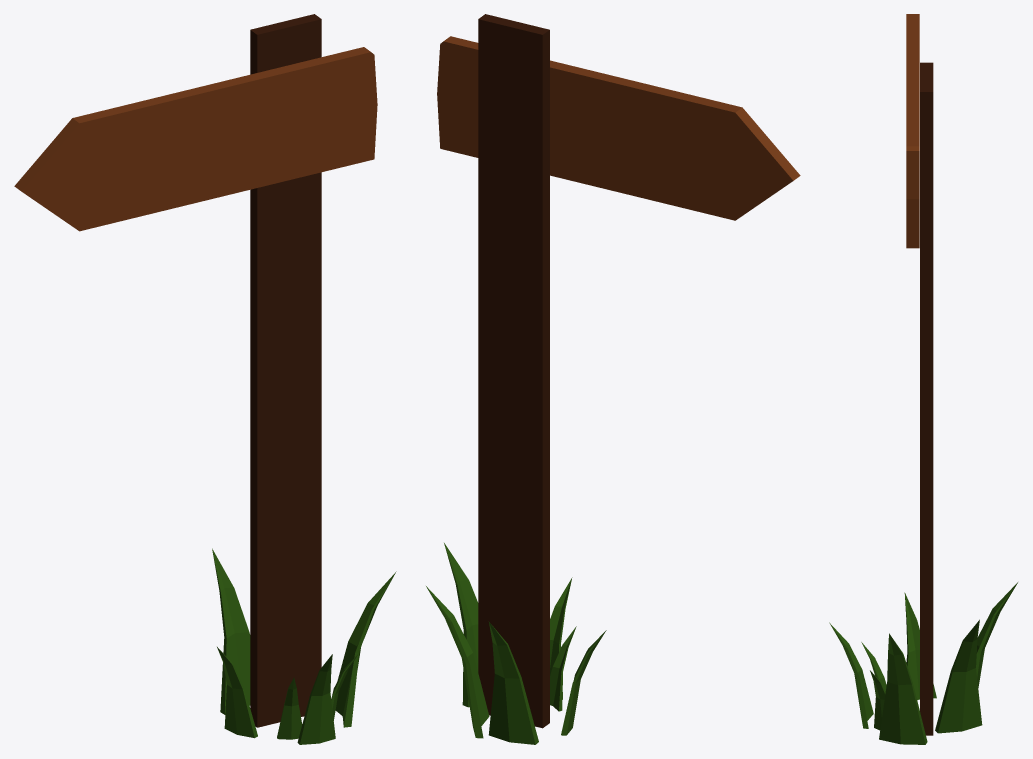
The model's file is Sign1.obj.
The picture shows the model from 3 angles, left to right: view 1: azimuth 30°, elevation 25°; view 2: azimuth 150°, elevation 25°; view 3: azimuth 270°, elevation 25°; orthographic projection. The views are drawn at different scales.
Parts seen in each view (by area): view 1: Sign1; view 2: Sign1; view 3: Sign1.
Part boxes in pixels (box(x1,y1,x2,y2)): Sign1: box(14, 14, 396, 744); Sign1: box(426, 14, 800, 744); Sign1: box(829, 14, 1017, 744).
Bounding box in the file's own units: 0.9064 × 1.64 × 0.4385.
